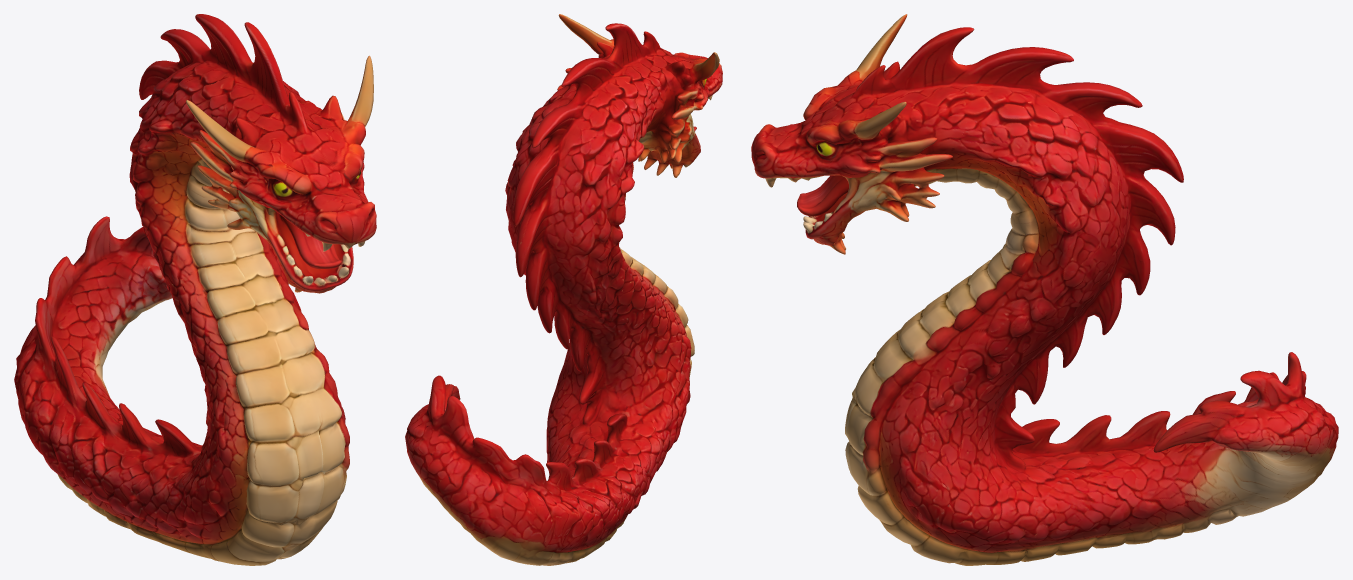
Rendered from sea-serpent-hyper3d-pbr.glb.
3 views of the same model, side by side, from view 1: azimuth 30°, elevation 25°; view 2: azimuth 150°, elevation 25°; view 3: azimuth 270°, elevation 25° (orthographic). The views are drawn at different scales.
Parts seen in each view (by area): view 1: model; view 2: model; view 3: model.
Part boxes in pixels (left/top/right/bottom): model: left=14, top=14, right=376, bottom=565; model: left=405, top=14, right=722, bottom=565; model: left=751, top=14, right=1338, bottom=565.
Bounding box in the file's own units: 0.6947 × 1.9 × 1.88.
1 material, 1 textured.
